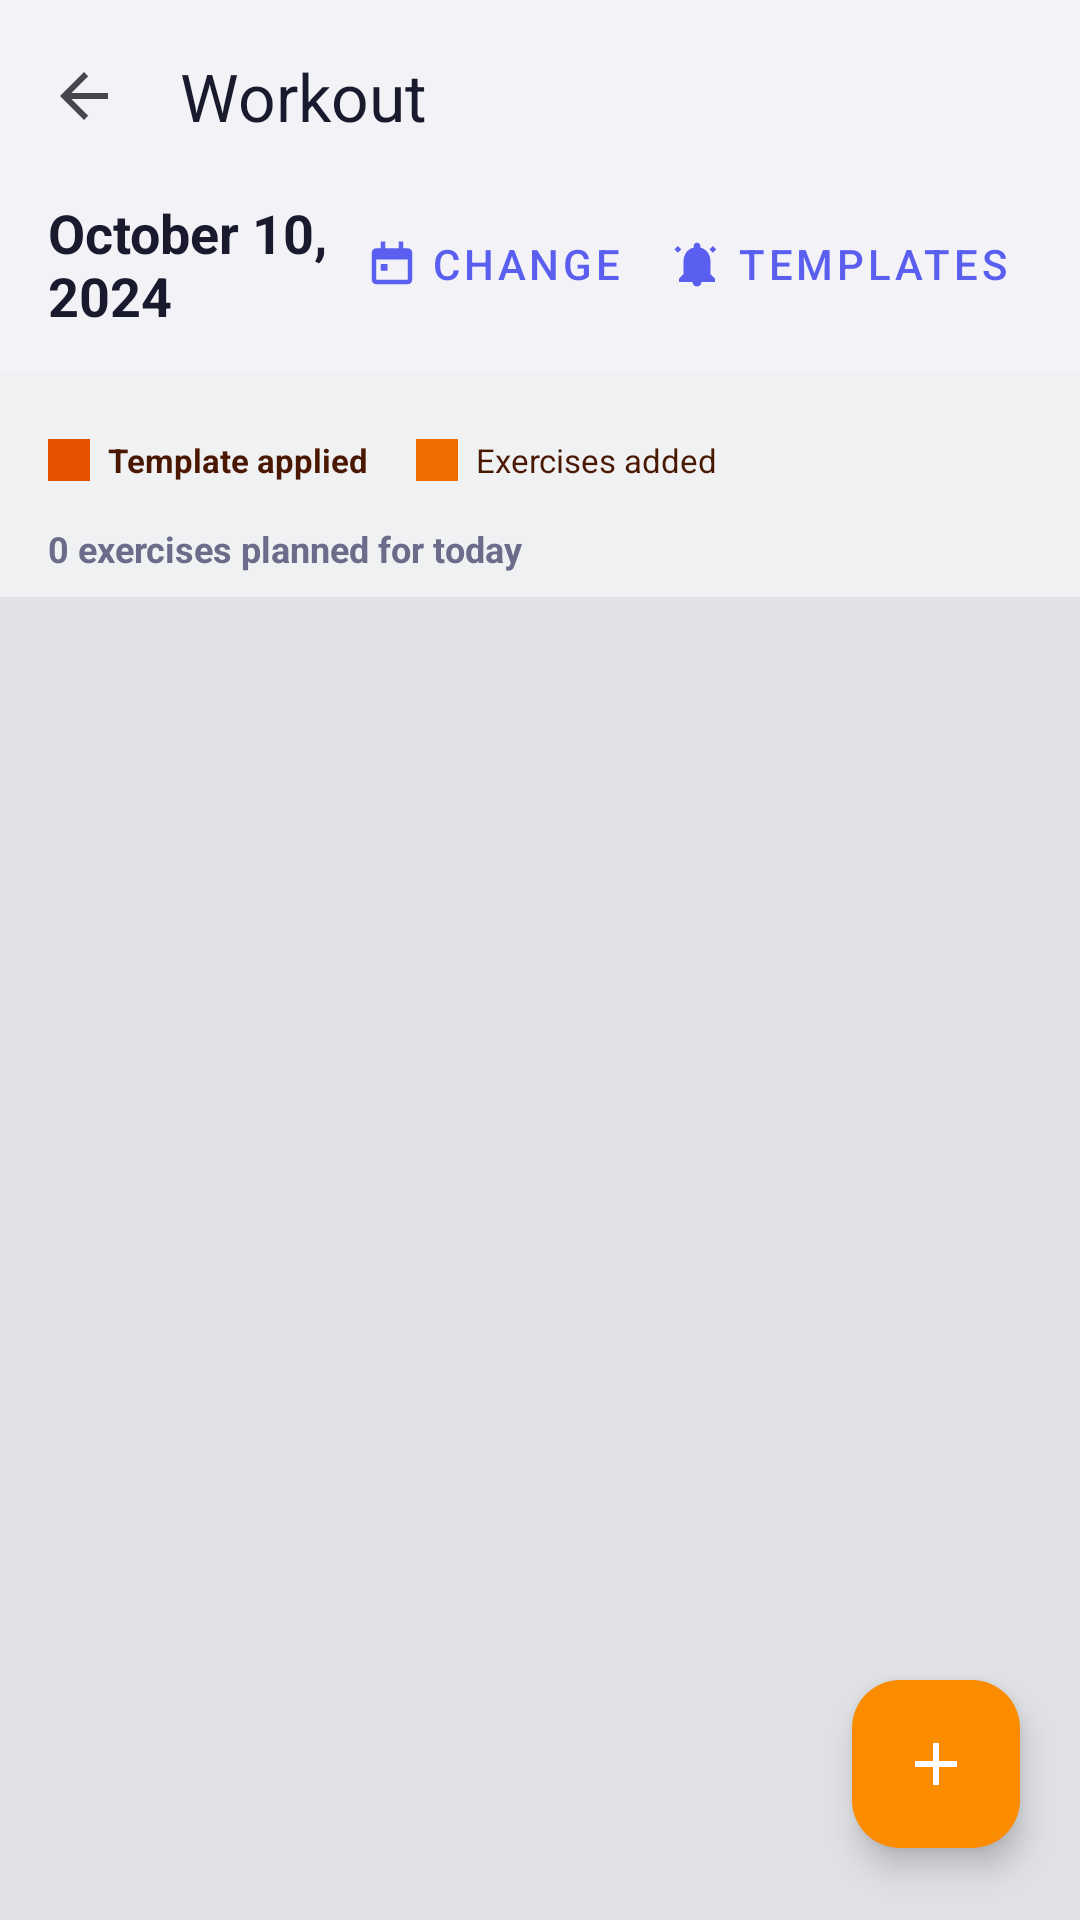

Named icons in this screenshot (1080×1920) and their centers, (x,y):
Add Exercise: (936,1764)
